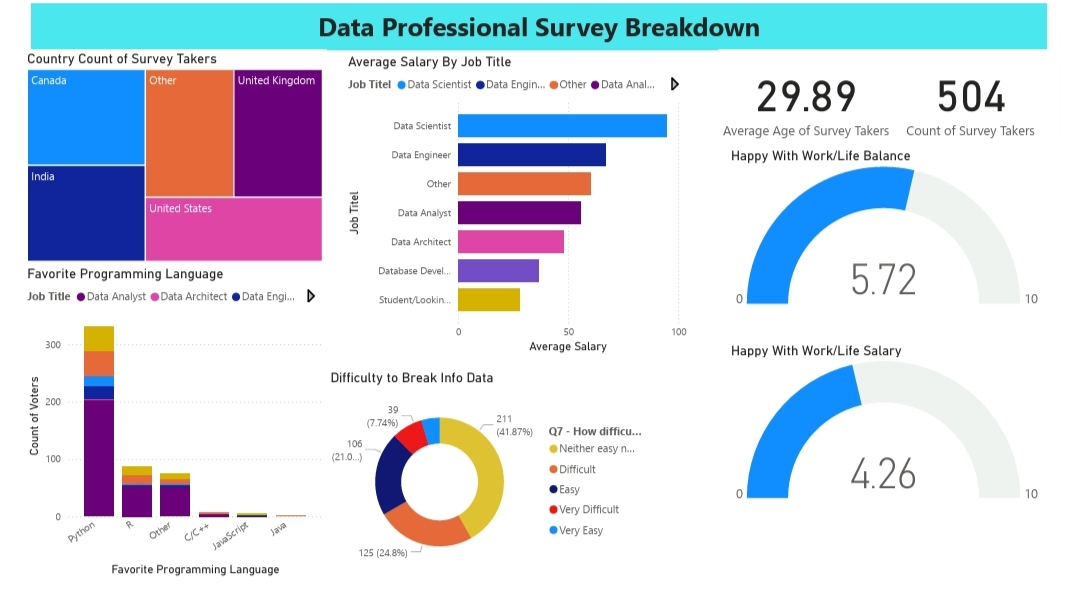

What the dashboard file says about the page in this screenshot:
{"tool":"powerbi","page":{"name":"Page 2","canvas":[1280,720],"ordinal":0},"visuals":[{"type":"textbox","box":[9.6,0,1270.4,57.7],"z":0},{"type":"card","fields":{"Values":["Count(Data Professional Survey.Unique ID)"]},"box":[1089.1,57.7,190.9,122.2],"z":1000},{"type":"card","fields":{"Values":["Avg(Data Professional Survey.Q10 - Current Age)"]},"box":[869.4,57.7,219.7,122.2],"z":2000},{"type":"barChart","title":"Average Salary By Job Title ","fields":{"Category":["Data Professional Survey.Q1 - Which Title Best Fits your Current Role?.1"],"Y":["Avg(Data Professional Survey.Average Salary)"],"Series":["Data Professional Survey.Q1 - Which Title Best Fits your Current Role?.1"]},"box":[401,61.8,432.6,380.4],"z":3000},{"type":"columnChart","title":"Favorite Programming Language","fields":{"Category":["Data Professional Survey.Q5 - Favorite Programming Language.1"],"Y":["CountNonNull(Data Professional Survey.Unique ID)"],"Series":["Data Professional Survey.Q1 - Which Title Best Fits your Current Role?.1"]},"box":[0,326.9,379.1,392.8],"z":4000},{"type":"treemap","title":"Country Count of Survey Takers","fields":{"Group":["Data Professional Survey.Q11 - Which Country do you live in?.1"],"Values":["Count(Data Professional Survey.Q11 - Which Country do you live in?.1)"]},"box":[0,57.7,379.1,269.2],"z":5000},{"type":"gauge","title":"Happy With Work/Life Balance","fields":{"Y":["Avg(Data Professional Survey.Q6 - How Happy are you in your Current Position with the following? (Work/Life Balance))"],"MinValue":["Min(Data Professional Survey.Q6 - How Happy are you in your Current Position with the following? (Work/Life Balance))1"],"MaxValue":["Max(Data Professional Survey.Q6 - How Happy are you in your Current Position with the following? (Work/Life Balance))2"]},"box":[880.3,179.9,399.7,204.6],"z":6000},{"type":"gauge","title":"Happy With Work/Life Salary","fields":{"Y":["Avg(Data Professional Survey.Q6 - How Happy are you in your Current Position with the following? (Salary))"],"MinValue":["Min(Data Professional Survey.Q6 - How Happy are you in your Current Position with the following? (Salary))"],"MaxValue":["Max(Data Professional Survey.Q6 - How Happy are you in your Current Position with the following? (Salary))"]},"box":[880.3,423,399.7,204.6],"z":7000},{"type":"donutChart","title":"Difficulty to Break Info Data","fields":{"Category":["Data Professional Survey.Q7 - How difficult was it for you to break into Data?"],"Y":["CountNonNull(Data Professional Survey.Q7 - How difficult was it for you to break into Data?)"]},"box":[379.1,457.3,401,262.3],"z":8000}]}

Visuals, with their boxes in screenshot pixels (x1, y1, x2, y2), scaled from the page's 1280x720 canvas onto the 1080x606 screenshot:
textbox: (left=8, top=0, right=1079, bottom=49)
card - Count(Data Professional Survey.Unique ID): (left=919, top=49, right=1079, bottom=151)
card - Avg(Data Professional Survey.Q10 - Current Age): (left=734, top=49, right=919, bottom=151)
"Average Salary By Job Title " barChart: (left=338, top=52, right=703, bottom=372)
"Favorite Programming Language" columnChart: (left=0, top=275, right=320, bottom=605)
"Country Count of Survey Takers" treemap: (left=0, top=49, right=320, bottom=275)
"Happy With Work/Life Balance" gauge: (left=743, top=151, right=1079, bottom=324)
"Happy With Work/Life Salary" gauge: (left=743, top=356, right=1079, bottom=528)
"Difficulty to Break Info Data" donutChart: (left=320, top=385, right=658, bottom=605)
